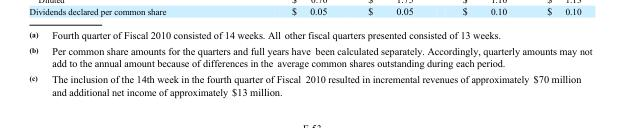table: (28, 29, 591, 96)
table column: (44, 29, 591, 96), (28, 29, 44, 96)
table row: (28, 42, 591, 70), (28, 70, 591, 96), (28, 29, 591, 42)
